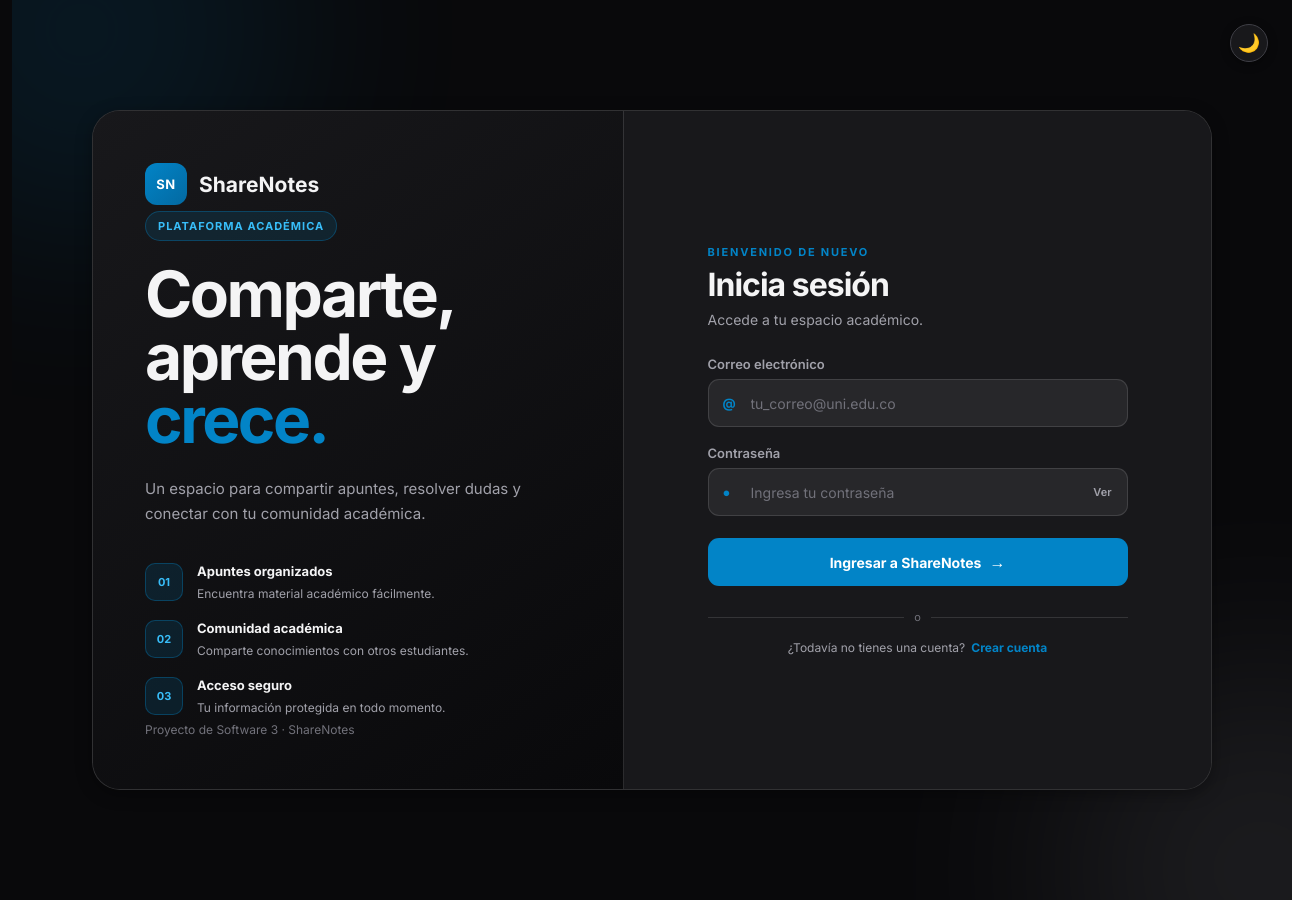
Test: IT-FE-01 | Flujo de login y autenticación › muestra error con credenciales incorrectas y no crea sesión
Step 1. Type "ana@uni.edu.co" into the field labelled "Correo electrónico" → (918, 403), box [708,379,1128,427]
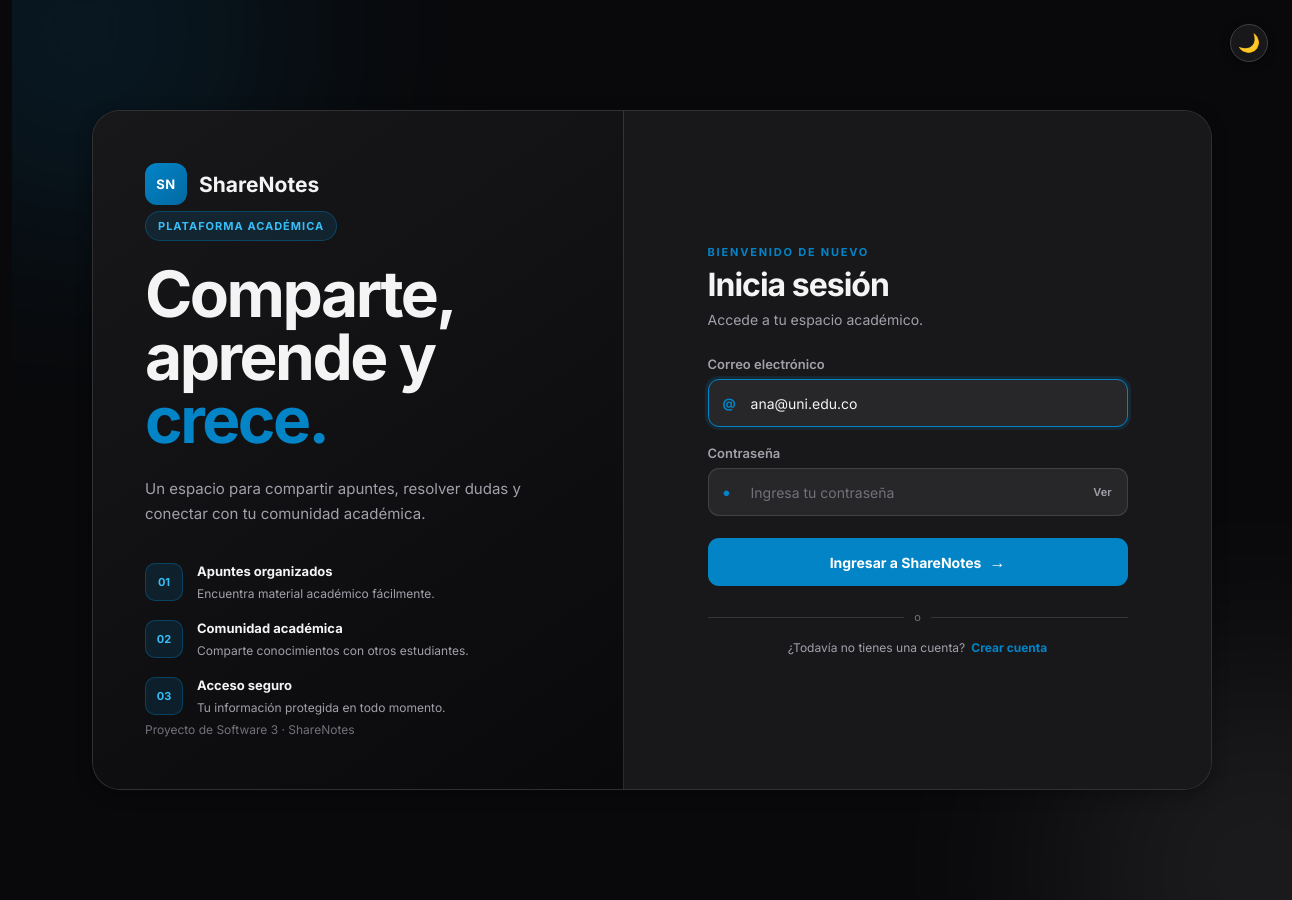
Step 2. Type "incorrecta" into the password field labelled "Contraseña" → (918, 492), box [708,468,1128,516]
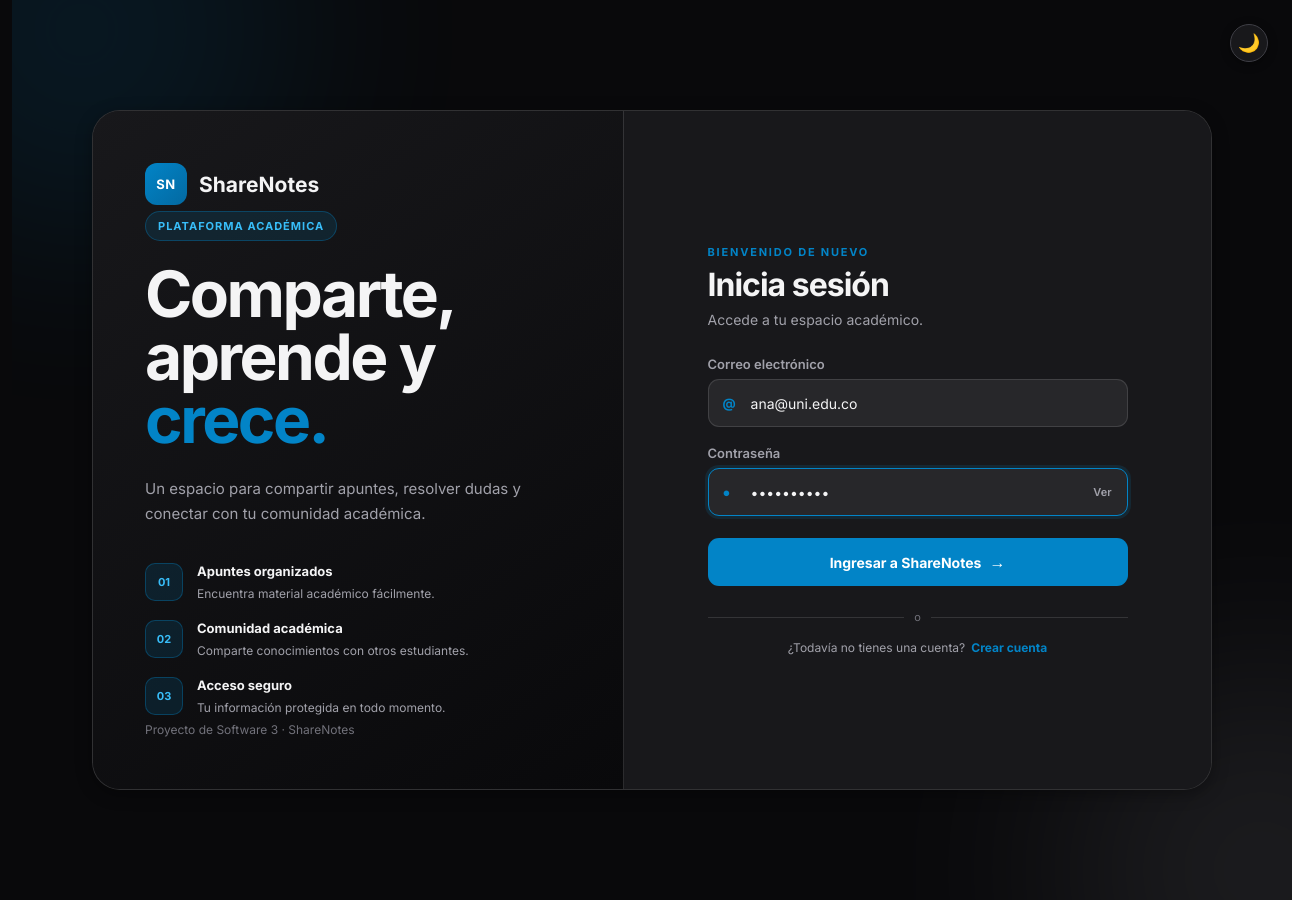
Step 3. Click the button "Ingresar a ShareNotes→" → (918, 562), box [708,538,1128,586]
(page scrolled)
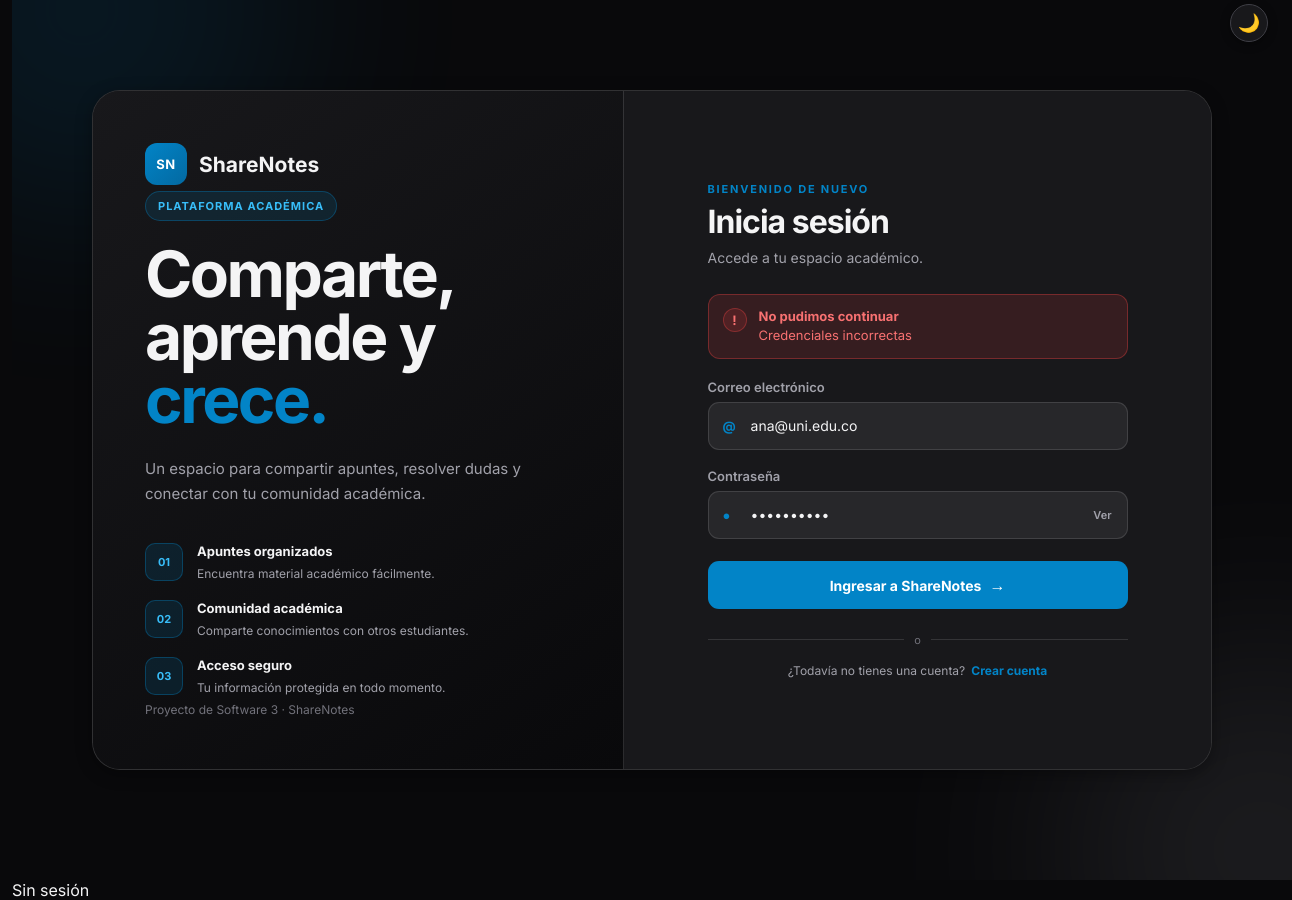
Expected: the text with test id "estado-sesion" reads "Sin sesión", [12,880,89,899]
Result: the text "Credenciales incorrectas" is shown at [758,326,912,345]
